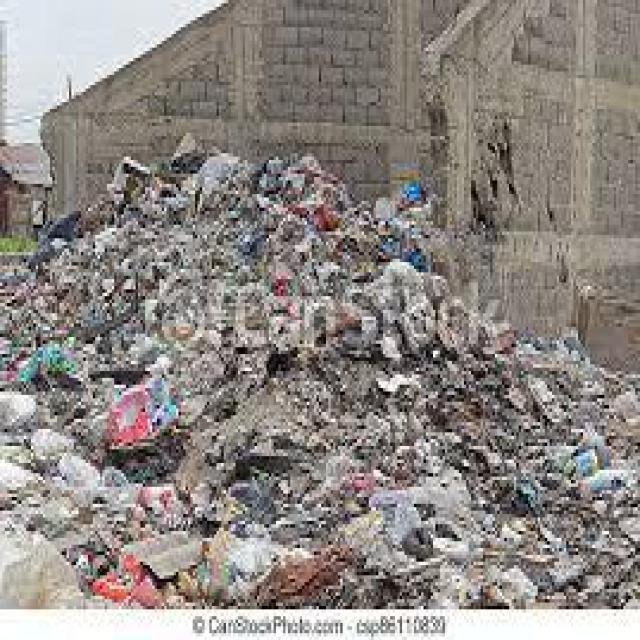garbage: (0, 364, 638, 616), (0, 259, 462, 354), (119, 154, 352, 255), (357, 194, 438, 252)
